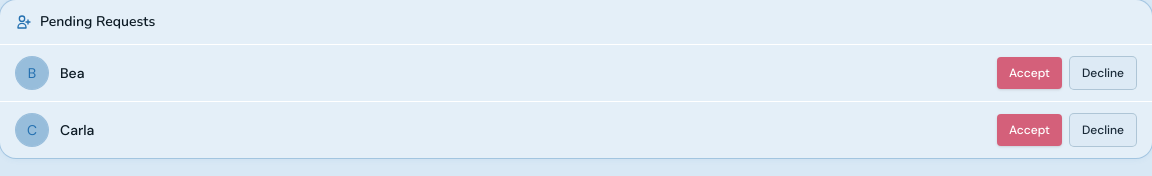
Test: PendingRequestsWidget › cancelling the confirmation keeps the request
This screenshot has width=1152, height=176.
Expected: the text "Bea" is shown, [60, 64, 84, 82]
Click the button "Decline" in the row of "Bea" at (1103, 73), box [1070, 57, 1136, 89]
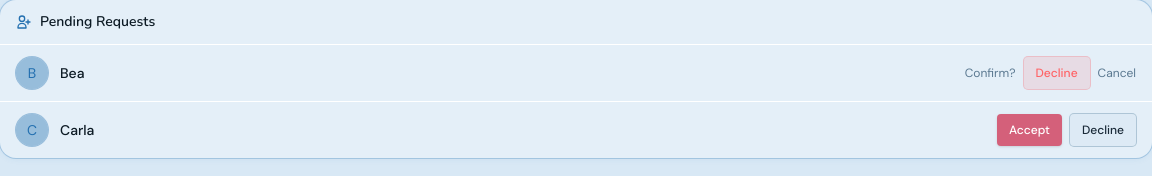
Click the button "Cancel" at (1117, 73), box [1098, 65, 1136, 81]
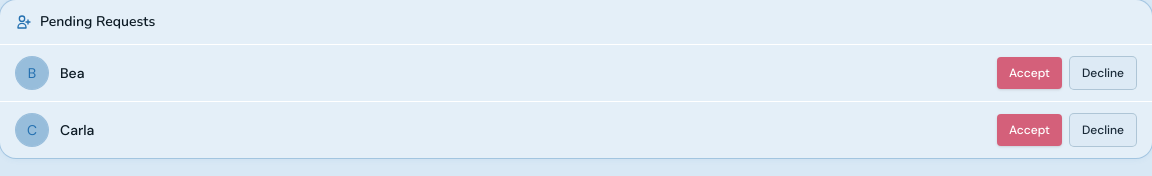
Expected: the text "Bea" is shown, [60, 64, 84, 82]
Now the text "Confirm?" is gone
